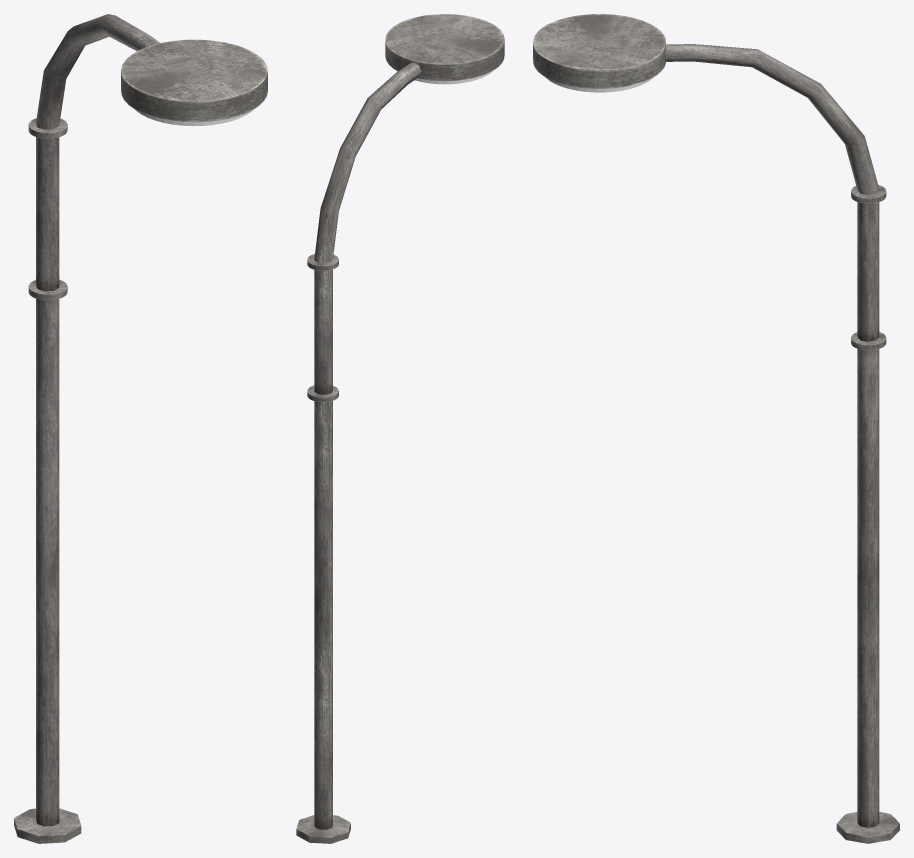
The model's file is street light.FBX.
3 renders of one model, left to right at view 1: azimuth 30°, elevation 25°; view 2: azimuth 150°, elevation 25°; view 3: azimuth 270°, elevation 25°, orthographic. The views are drawn at different scales.
Parts seen in each view (by area): view 1: street light; view 2: street light; view 3: street light.
Part boxes in pixels (x1,y1,x2,y2): street light: [14, 14, 267, 843]; street light: [296, 14, 504, 843]; street light: [533, 14, 899, 843].
Bounding box in the file's own units: 2.44 × 15.98 × 6.74.
